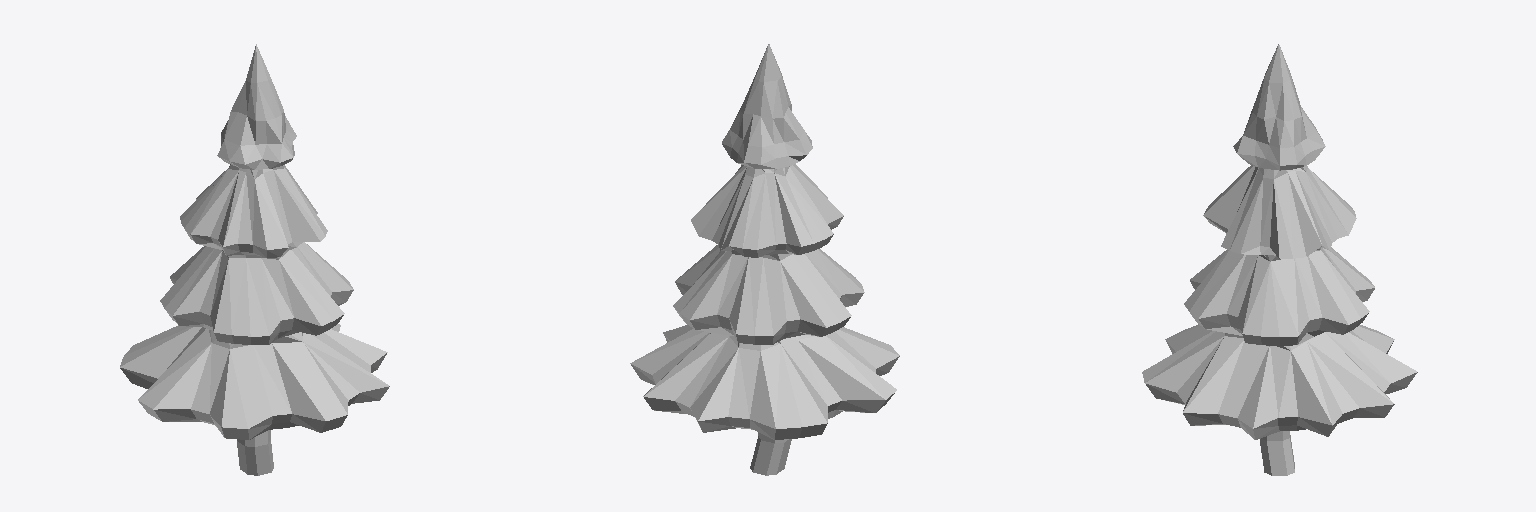
Rendered from tree_cube_3.obj.
3 views of the same model, side by side, from view 1: azimuth 30°, elevation 25°; view 2: azimuth 150°, elevation 25°; view 3: azimuth 270°, elevation 25° (orthographic).
Visible parts, largest first — view 1: tree_cube_3; view 2: tree_cube_3; view 3: tree_cube_3.
Part boxes in pixels (x1,y1,x2,y2): tree_cube_3: (120, 44, 389, 475); tree_cube_3: (630, 44, 899, 475); tree_cube_3: (1142, 44, 1417, 475).
Bounding box in the file's own units: 0.5932 × 1.02 × 0.5989.